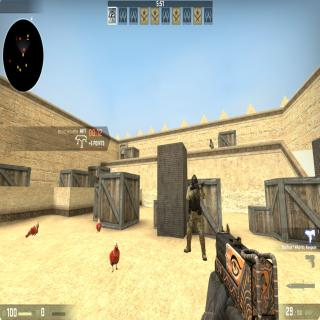CT-Body: (185, 172, 204, 258)
CT-Head: (190, 173, 198, 189)
T-Body: (208, 138, 214, 149)
T-Head: (210, 138, 212, 142)
